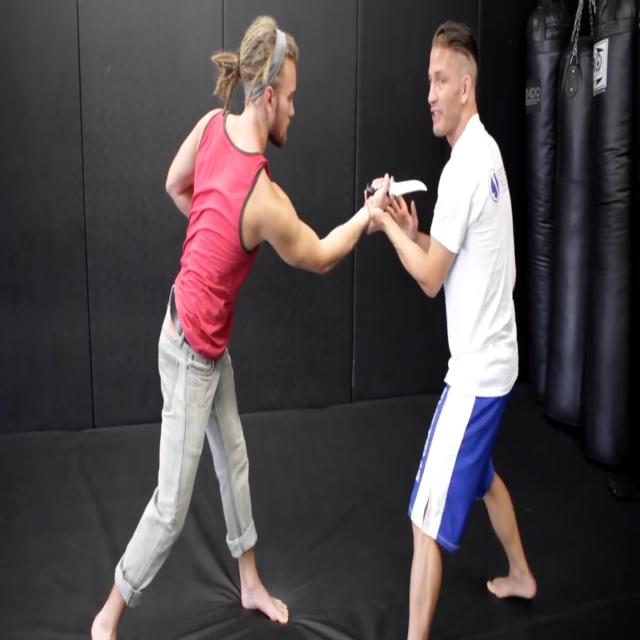knife: (366, 177, 431, 202)
